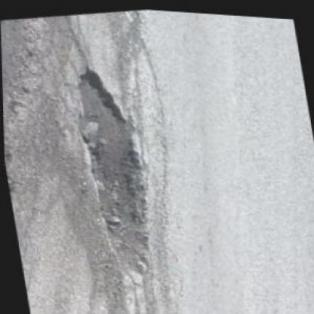Hueco: (68, 59, 169, 279)
